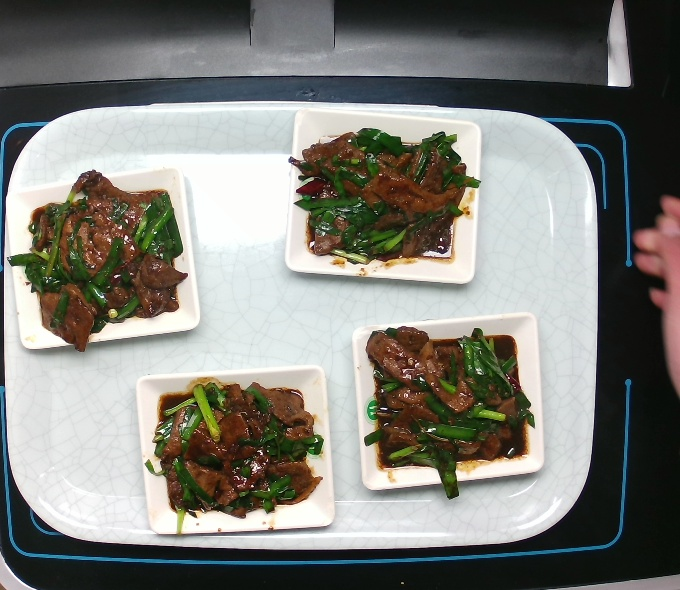wcq-ZhuGan: (21, 174, 192, 344), (294, 123, 475, 266), (361, 325, 529, 476), (154, 377, 322, 522)
